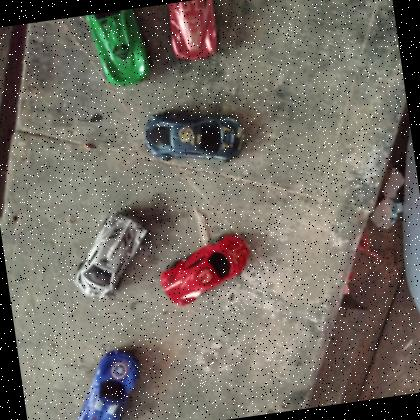Car: (61, 204, 158, 305), (139, 100, 253, 176), (155, 229, 257, 312), (66, 344, 151, 420)
